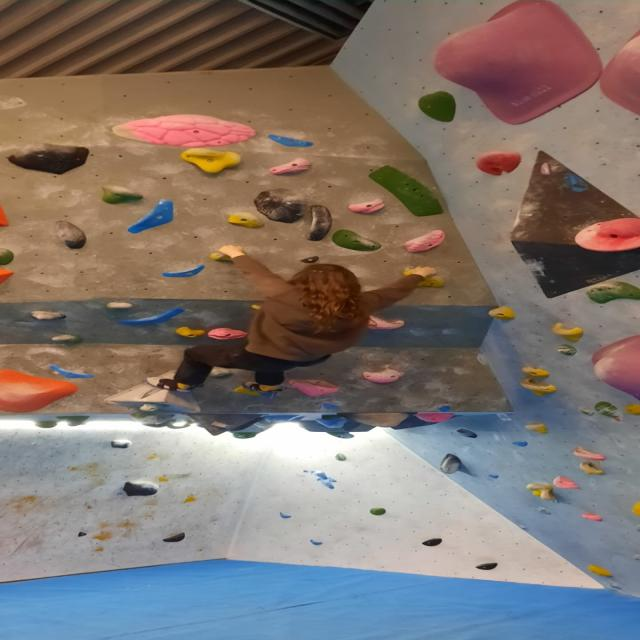Crimp: (127, 198, 179, 236), (117, 299, 185, 326), (161, 260, 211, 282), (359, 364, 404, 388), (207, 327, 252, 347), (264, 132, 319, 148), (26, 303, 65, 324), (176, 328, 212, 346), (472, 561, 502, 571), (418, 537, 444, 547)
Jug: (180, 146, 244, 179), (94, 182, 145, 205), (222, 210, 271, 230), (344, 194, 388, 216), (268, 156, 314, 177), (547, 320, 585, 343), (566, 445, 612, 462), (519, 379, 557, 397), (523, 482, 559, 500), (514, 365, 556, 378), (554, 474, 580, 493), (579, 460, 606, 477), (521, 422, 552, 433), (578, 511, 604, 522)
Pinch: (255, 186, 304, 226), (306, 202, 334, 244), (52, 219, 88, 251)
Sloper: (435, 0, 588, 126), (108, 112, 264, 147), (364, 163, 452, 217), (598, 29, 640, 125), (0, 367, 81, 415), (593, 334, 640, 408), (10, 139, 96, 177), (570, 218, 640, 257), (419, 89, 461, 125), (286, 372, 342, 398), (475, 149, 524, 178), (330, 227, 385, 251), (337, 410, 409, 428), (404, 227, 449, 255), (366, 311, 408, 334), (121, 479, 166, 500), (436, 451, 464, 482), (416, 410, 458, 423), (454, 426, 486, 440), (367, 506, 391, 518), (160, 532, 188, 542)
